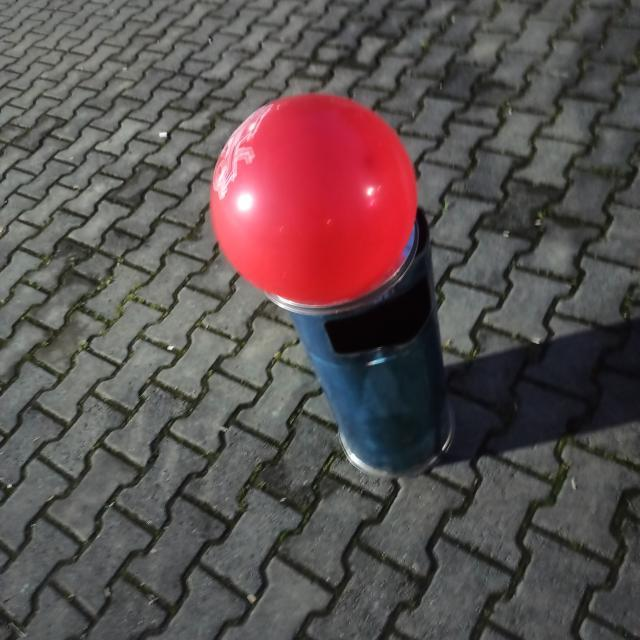balloon: (208, 90, 418, 304)
